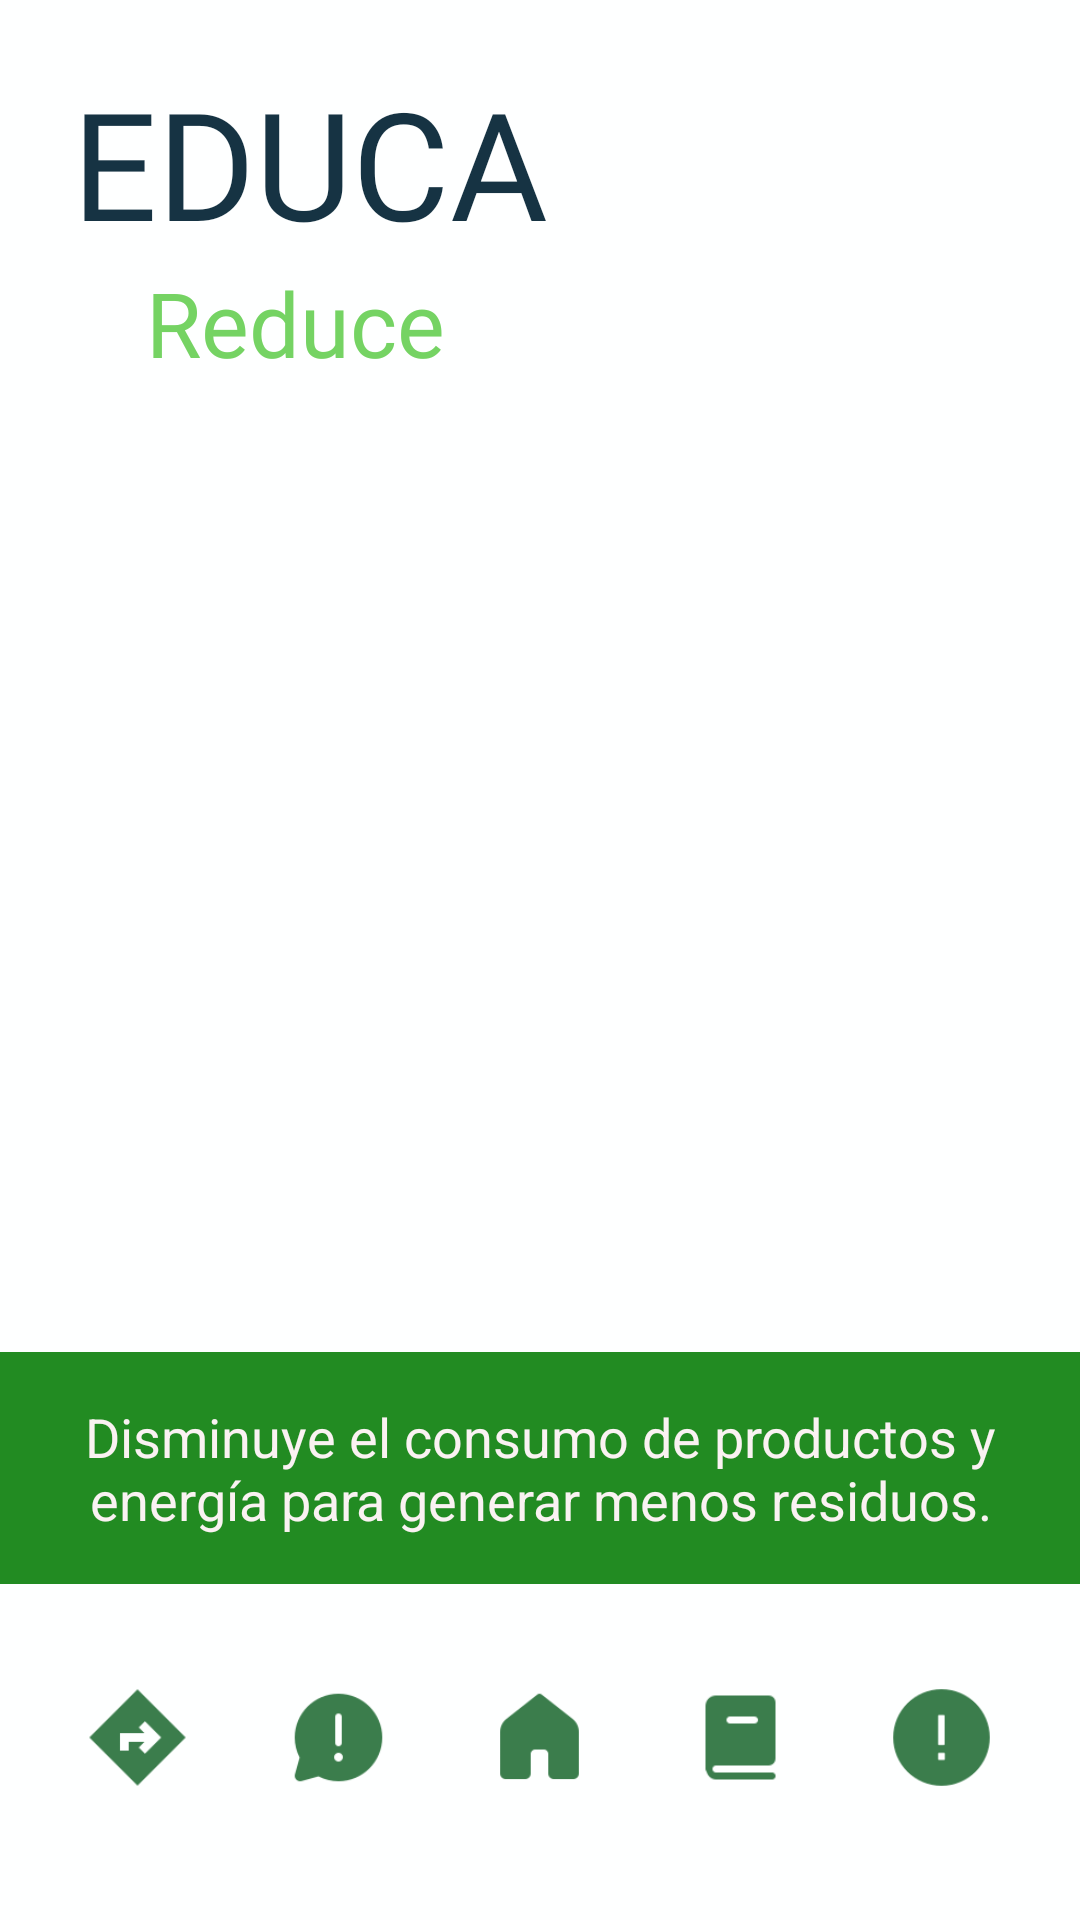

Locate icon controls on the screen. Image size 1080 × 1920, boxes as bbox=(x1, y1, x2, y2).
educaicono: bbox=(705, 1695, 776, 1780)
inicioicono: bbox=(500, 1693, 579, 1779)
rutasicono: bbox=(89, 1689, 186, 1786)
